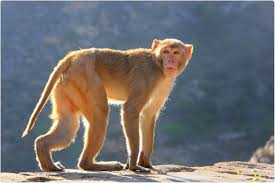monkey: (36, 13, 243, 170)
